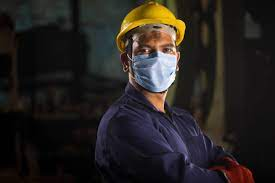Helmet: (113, 3, 183, 39)
Mask: (132, 57, 179, 91)
No-jacket: (102, 100, 203, 179)
